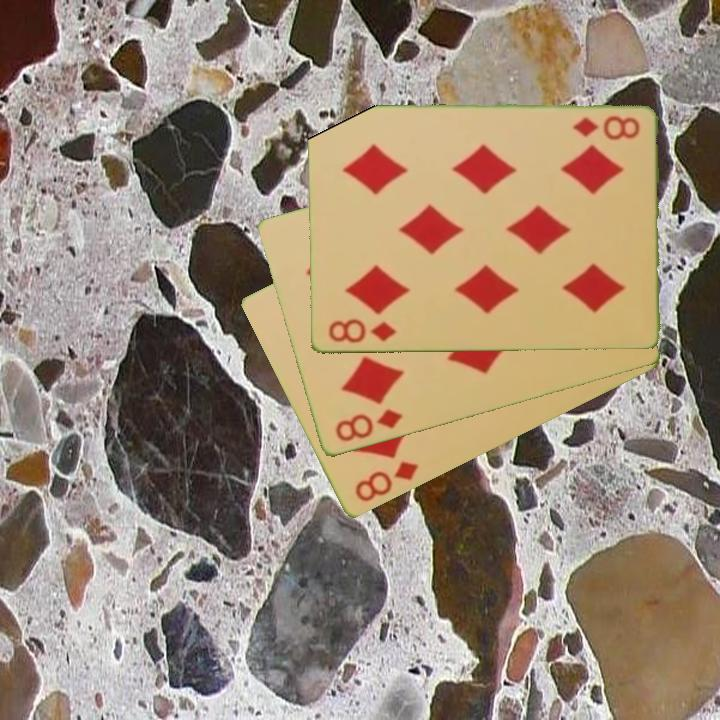8d: (351, 458, 422, 506), (331, 406, 405, 445), (325, 316, 399, 346), (569, 113, 642, 141)
